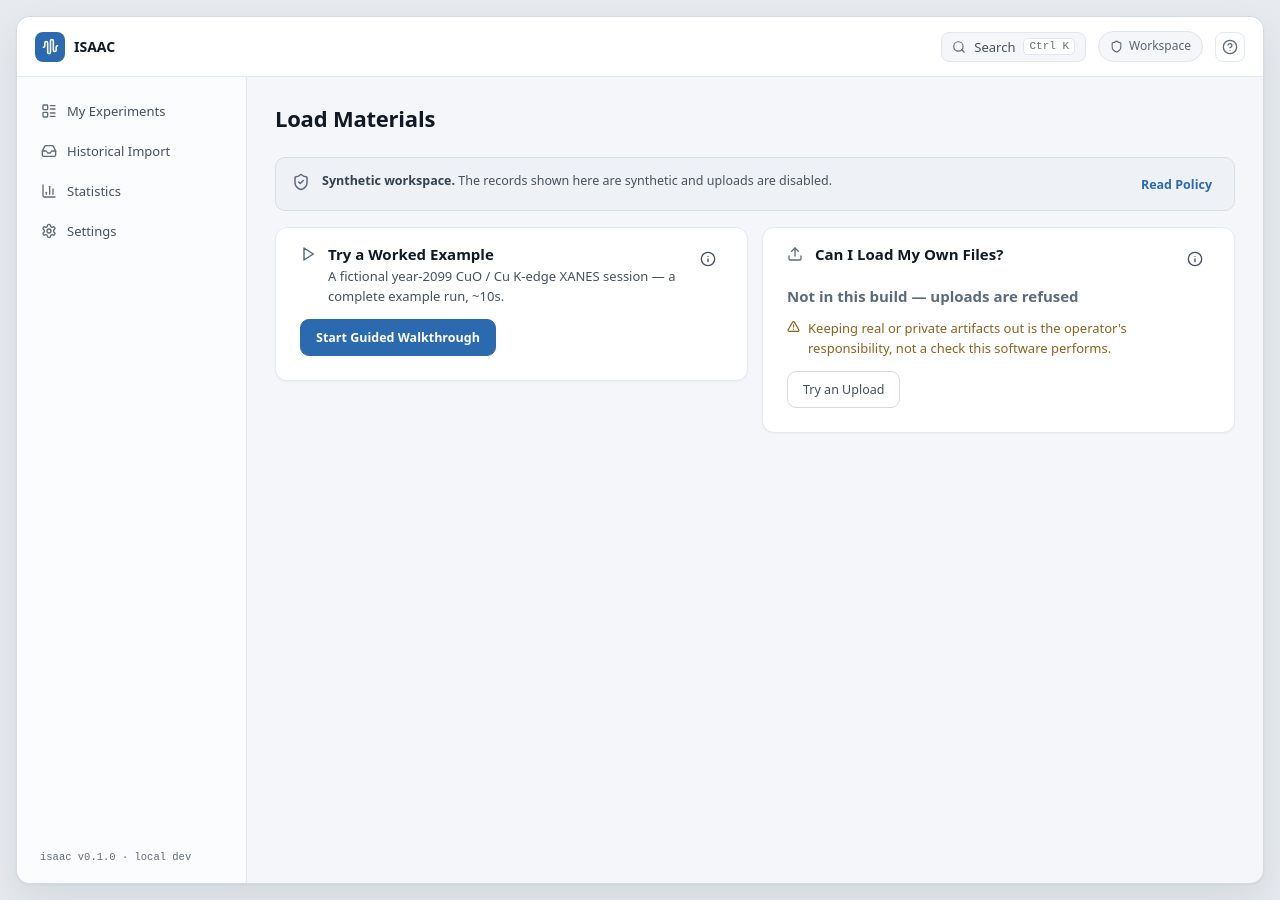
S2 · Load Materials › uploads with the backend down → Backend Not Running with the run command, never governance copy
The image size is (1280, 900).
Click the button "Try an Upload".
click(844, 389)  # box [787,371,900,408]
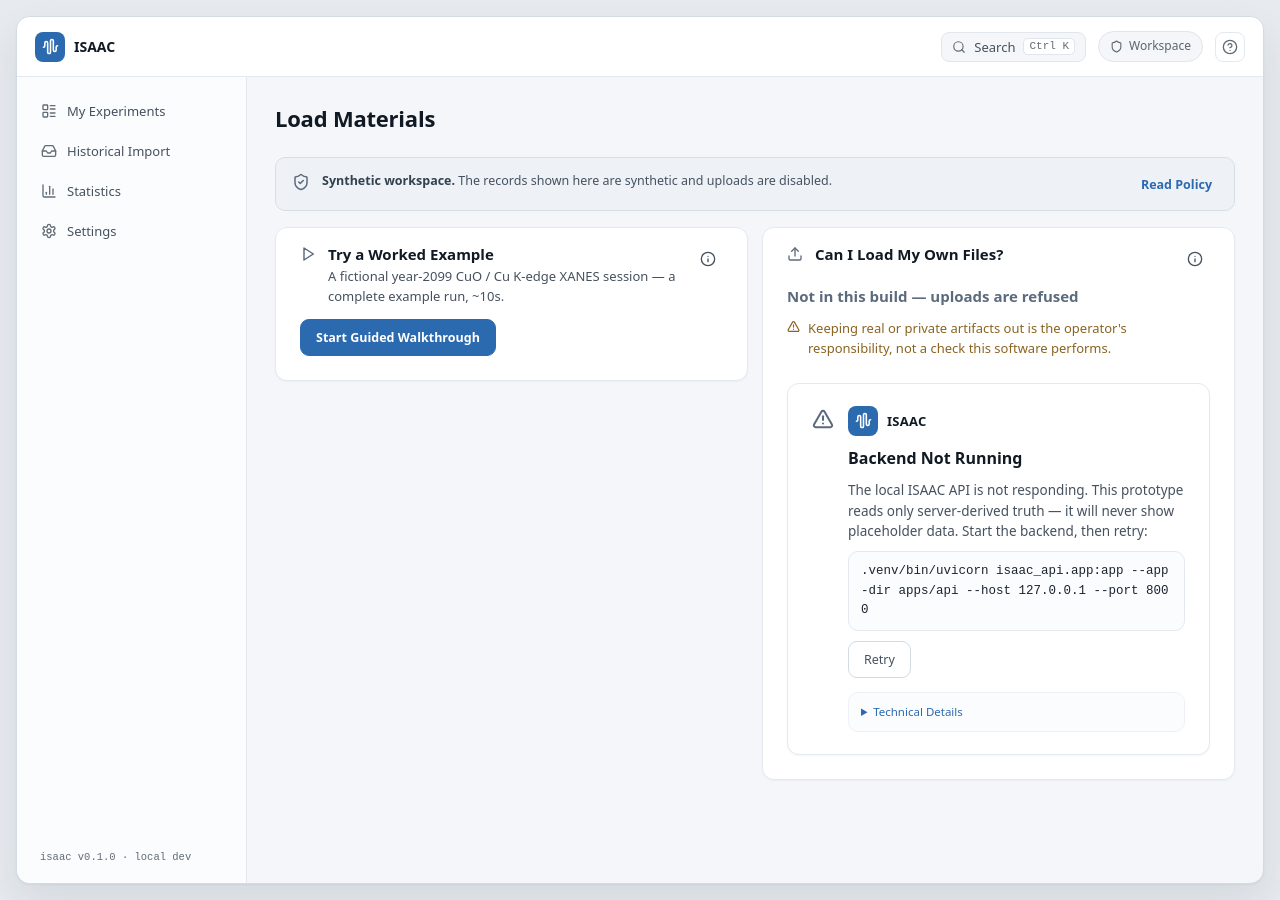
Expected: the heading "Backend Not Running" is shown, [848,447,1022,469]
Expected: the text ".venv/bin/uvicorn isaac_api.app:app --app-dir apps/api --host 127.0.0.1 --port 8000" is shown, [861,564,1169,617]
